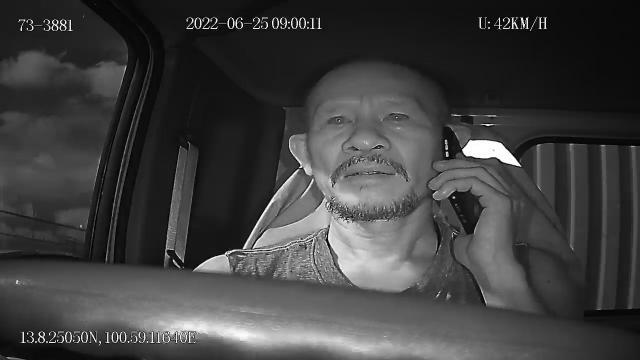PhoneUse: (440, 124, 480, 238)
SafeDriving: (378, 99, 418, 131), (320, 104, 360, 134)
